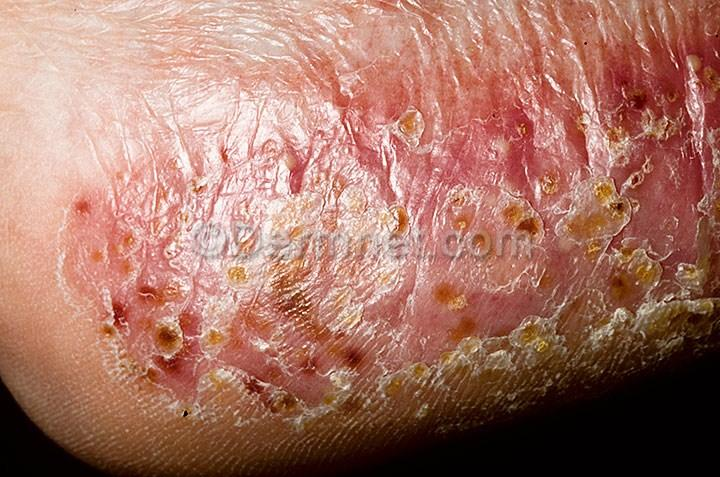Eczema: (45, 159, 341, 435), (215, 161, 539, 412), (154, 33, 720, 170), (443, 166, 717, 354)
